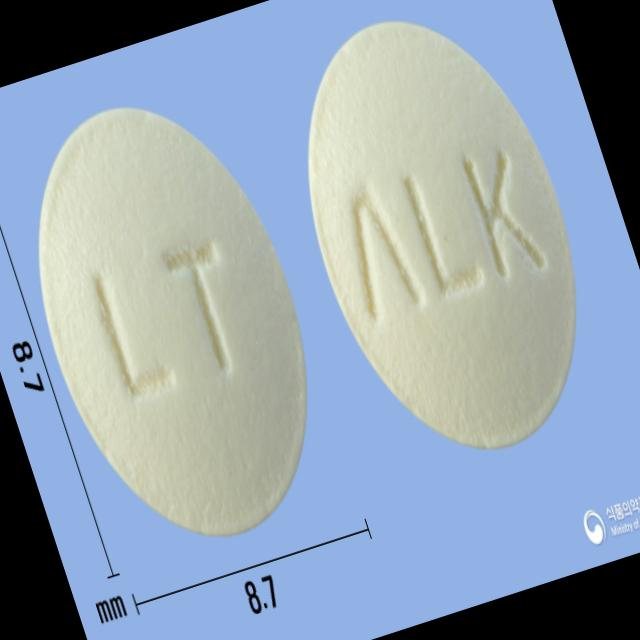Levotam: (0, 70, 359, 573), (257, 0, 627, 483)
